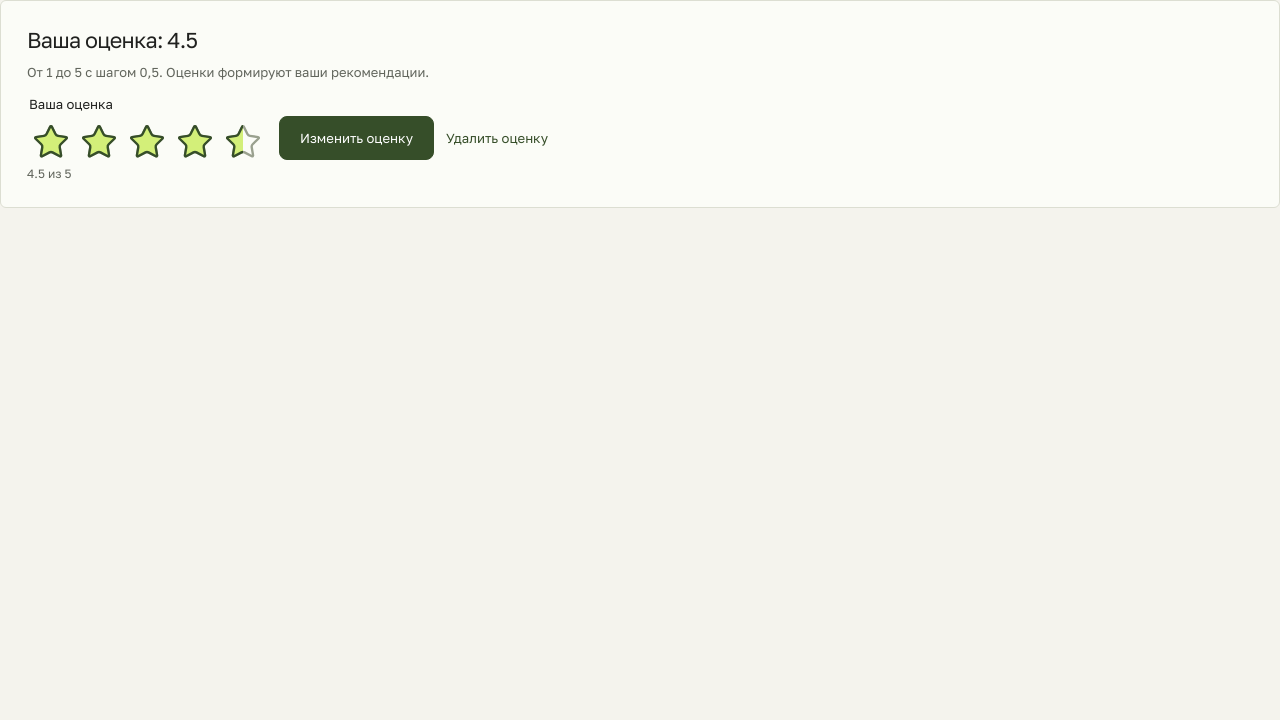
it: requires confirmation before deleting the rating and review
Later steps or results of the test are not shown.
Step 1. Click the button "Удалить оценку" → {"x": 497, "y": 138}, box [446,124,548,152]
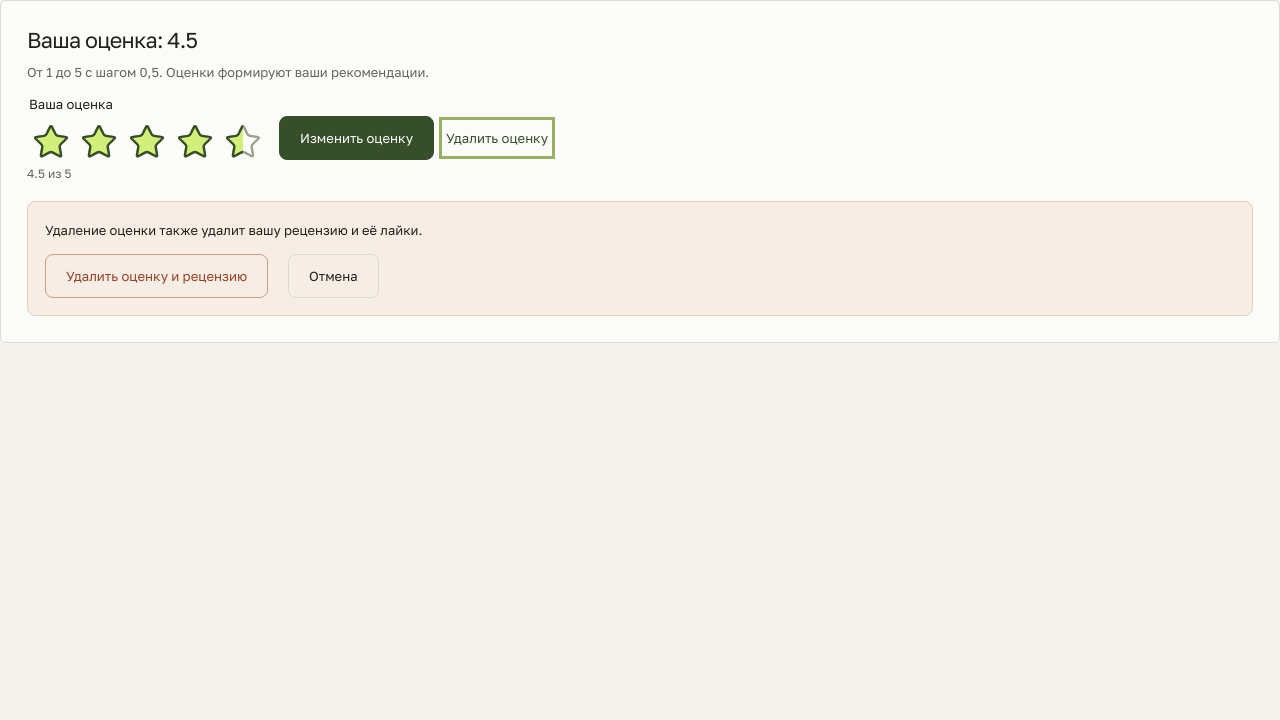
Now the dialog shows "также удалит вашу рецензию", box [45,222,422,238]
